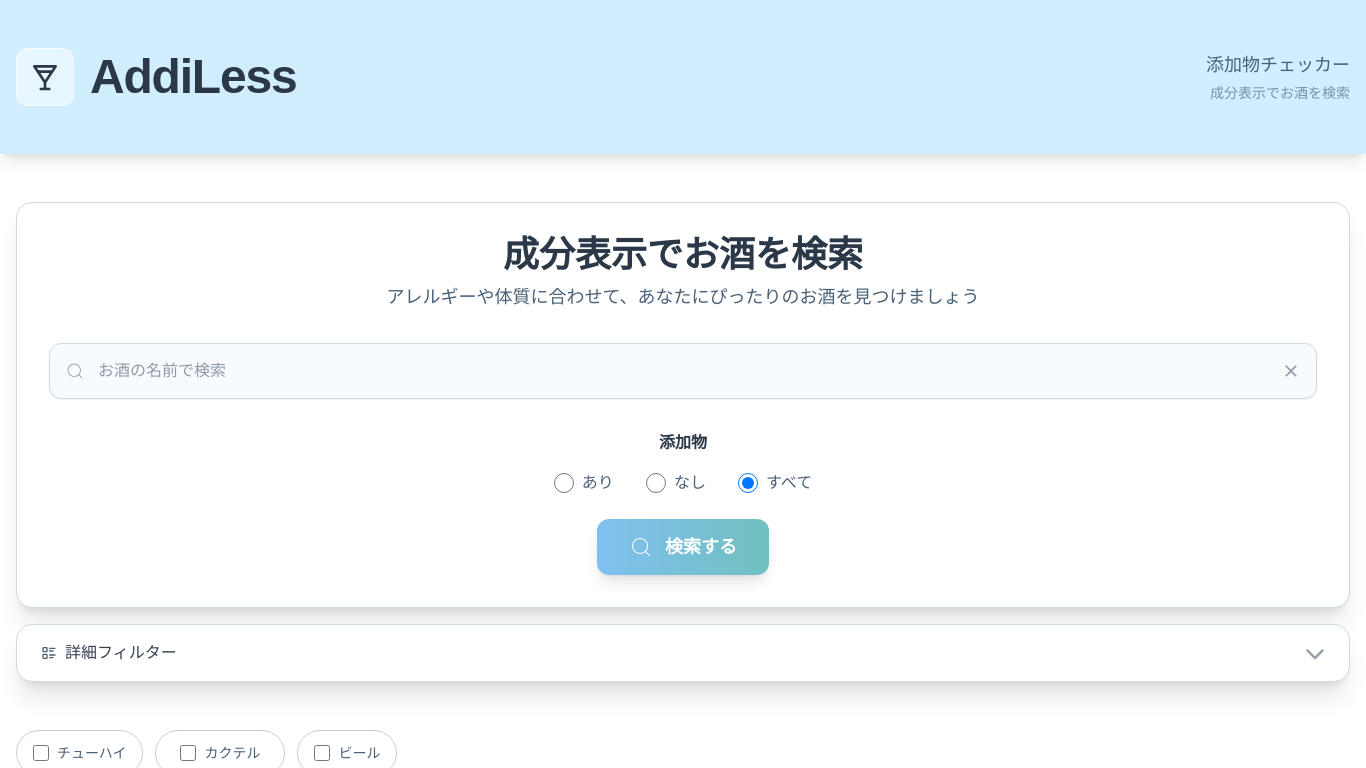
it: AlcoholsSearch › 検索結果がない場合、メッセージが表示される
存在しない商品名を入力して検索ボタンをクリック
In the field with test id "search_sake_name": (683, 371) [49,343,1317,399], type "存在しない商品"
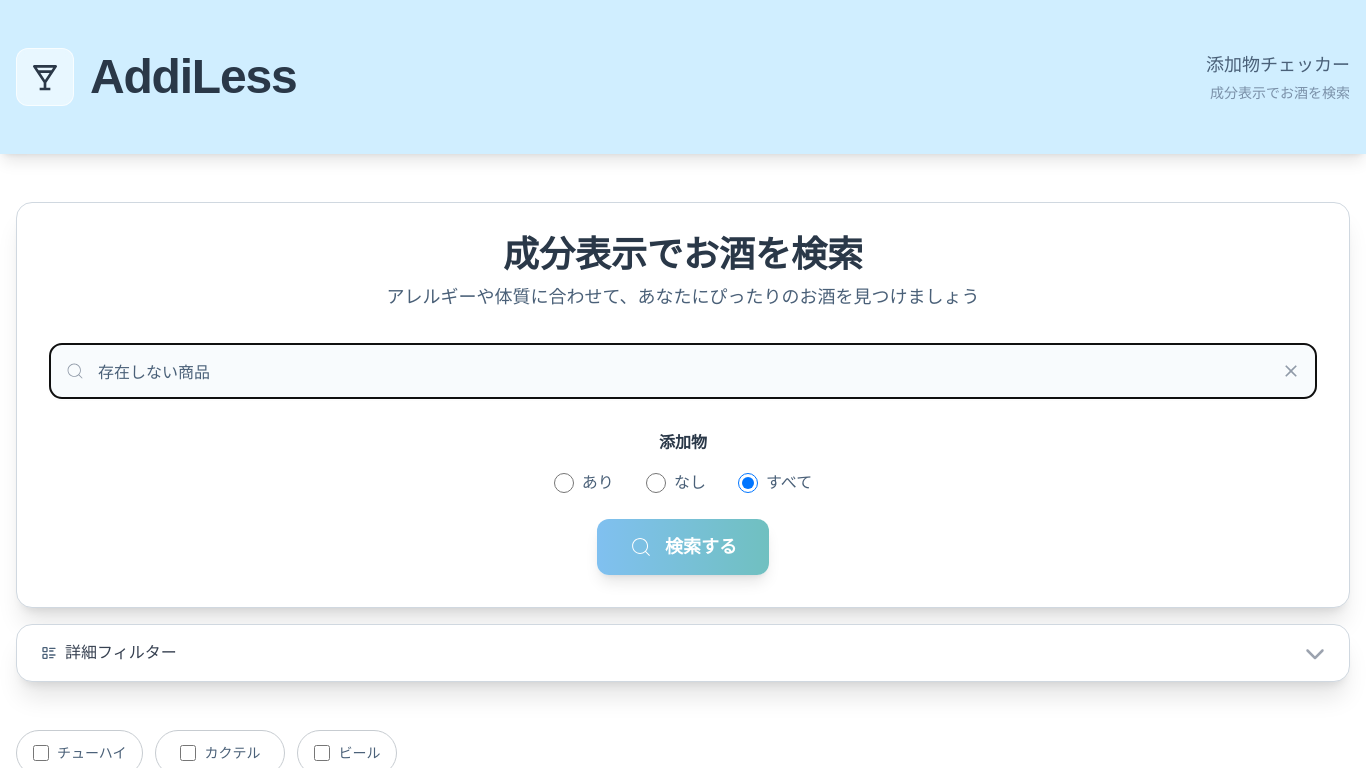
Click the button with test id "search_button": (683, 547) [597,519,769,575]
(page scrolled)
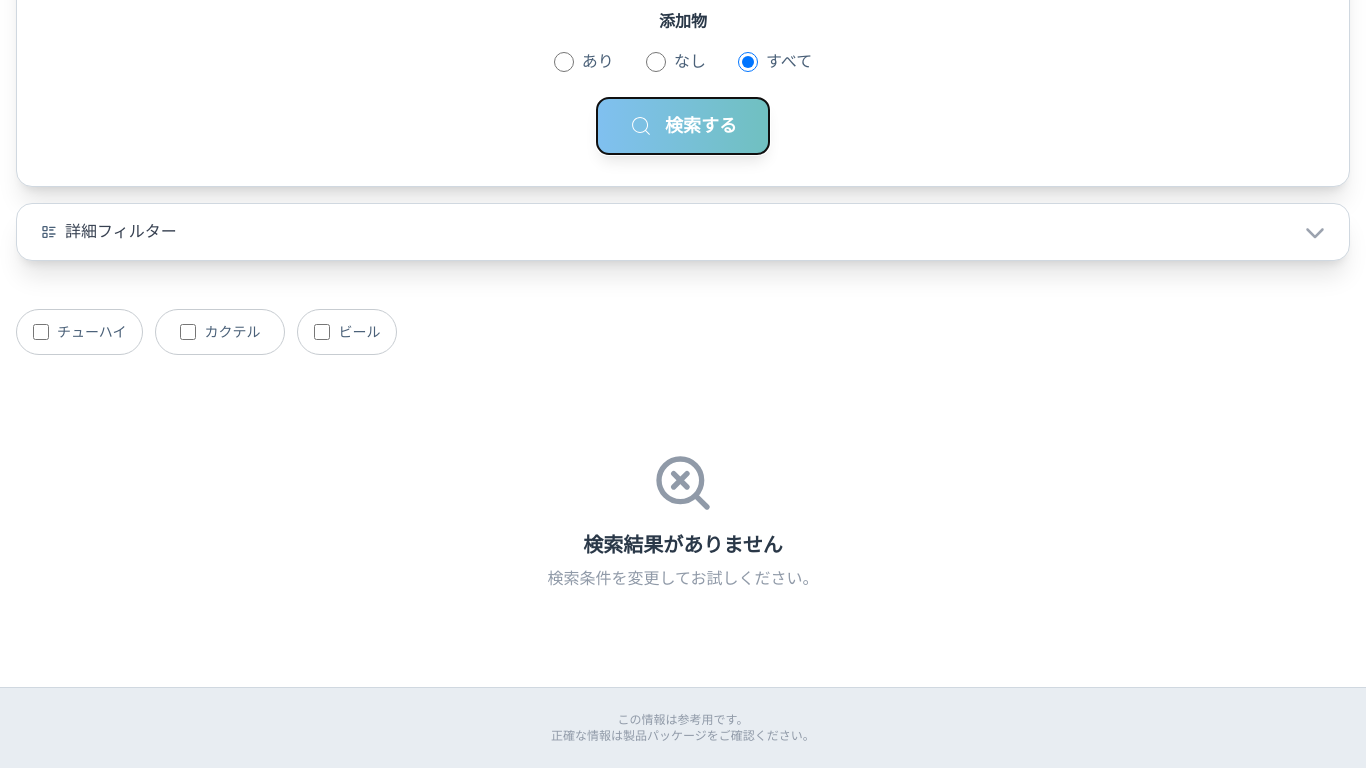
Now the heading "検索結果がありません" is shown, box [583,534,783,556]
